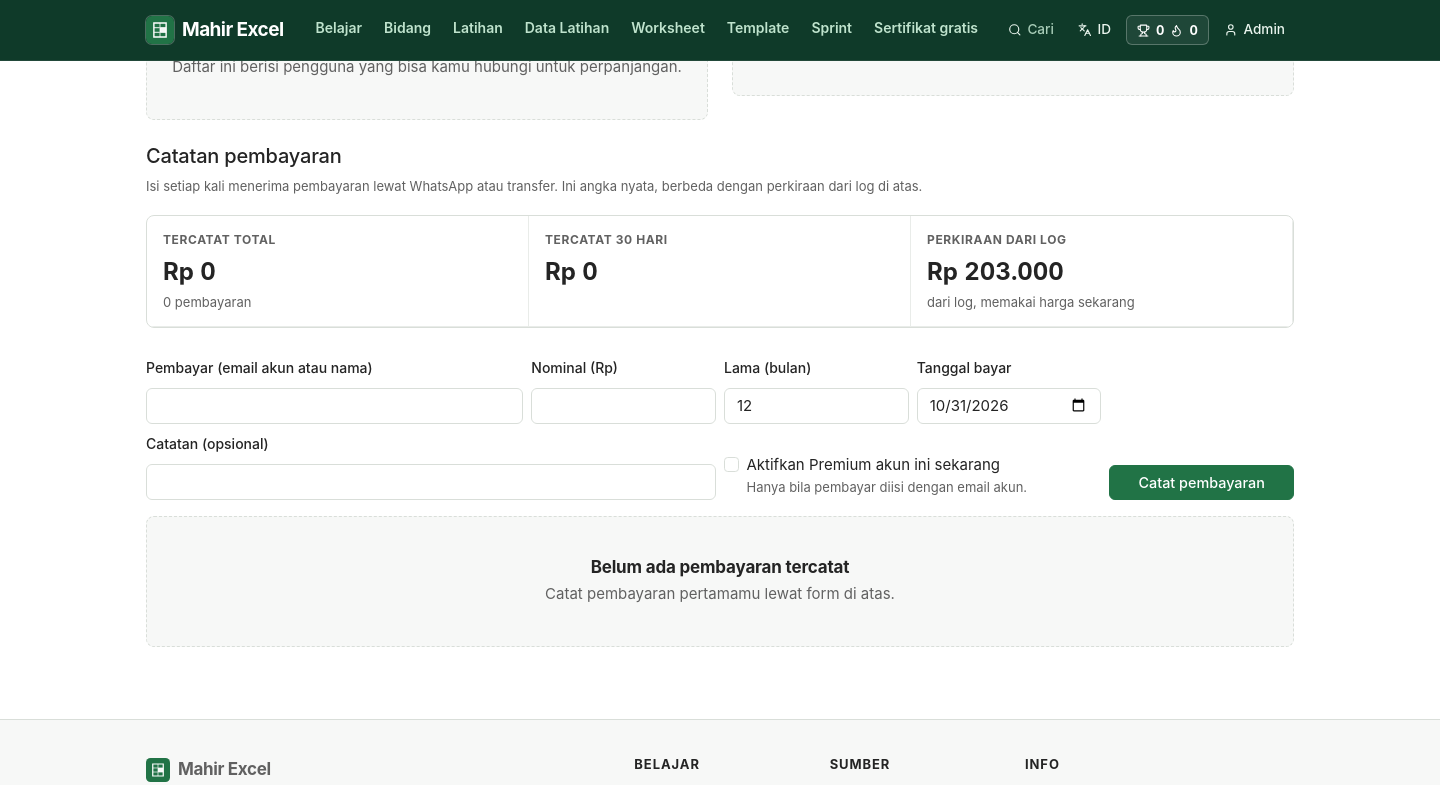
Scenario: catatan pembayaran manual di halaman Premium › mengirim pembayaran yang diisi, mengosongkan form, dan menampilkan hasilnya
(page scrolled)
Expected: the heading "Catatan pembayaran" is shown, top-left (146, 144), bottom-right (342, 168)
Type "ani@example.com" into the field labelled "Pembayar (email akun atau nama)" at x=335, y=406, box top-left (146, 388), bottom-right (523, 424)
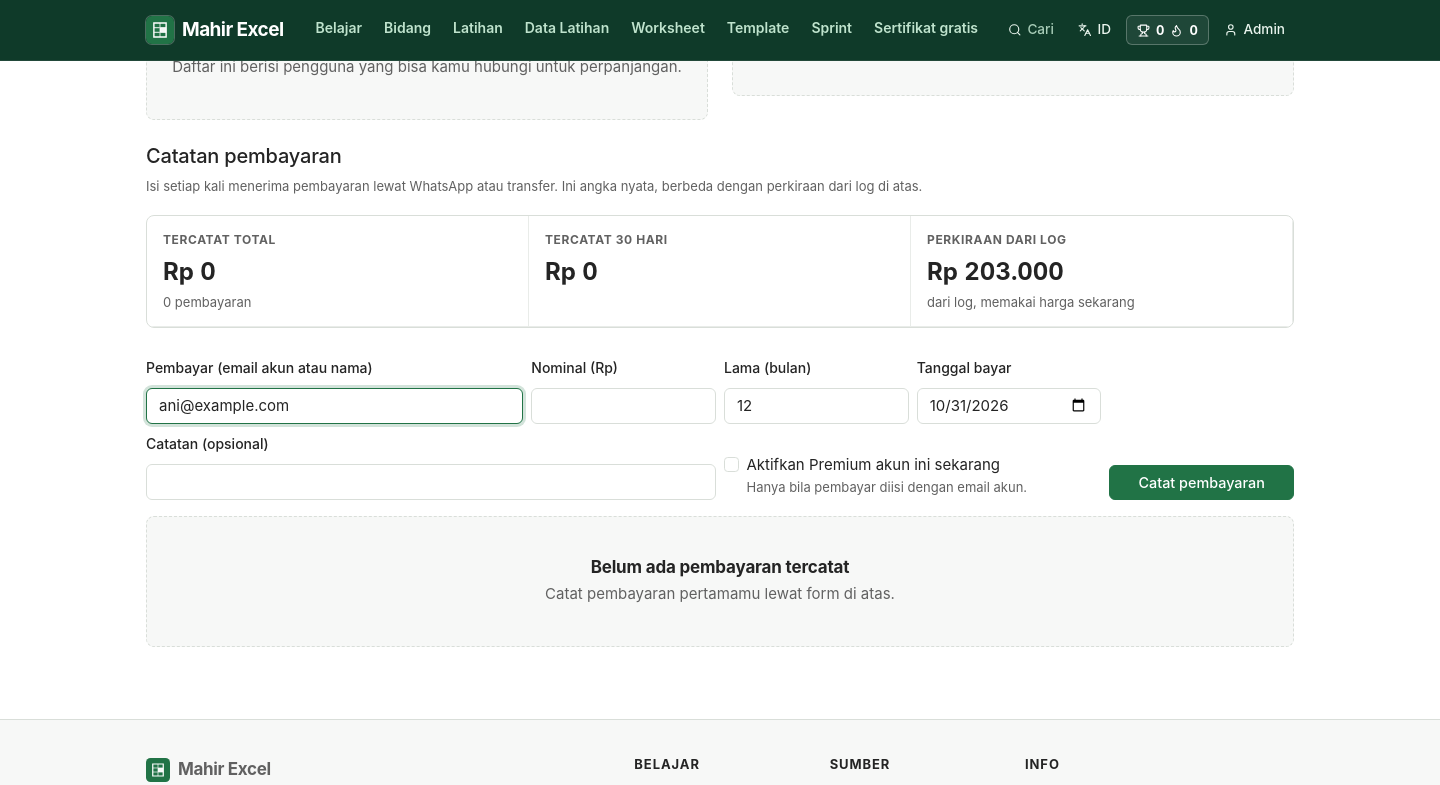
Type "49000" into the number field labelled "Nominal (Rp)" at x=624, y=406, box top-left (531, 388), bottom-right (716, 424)
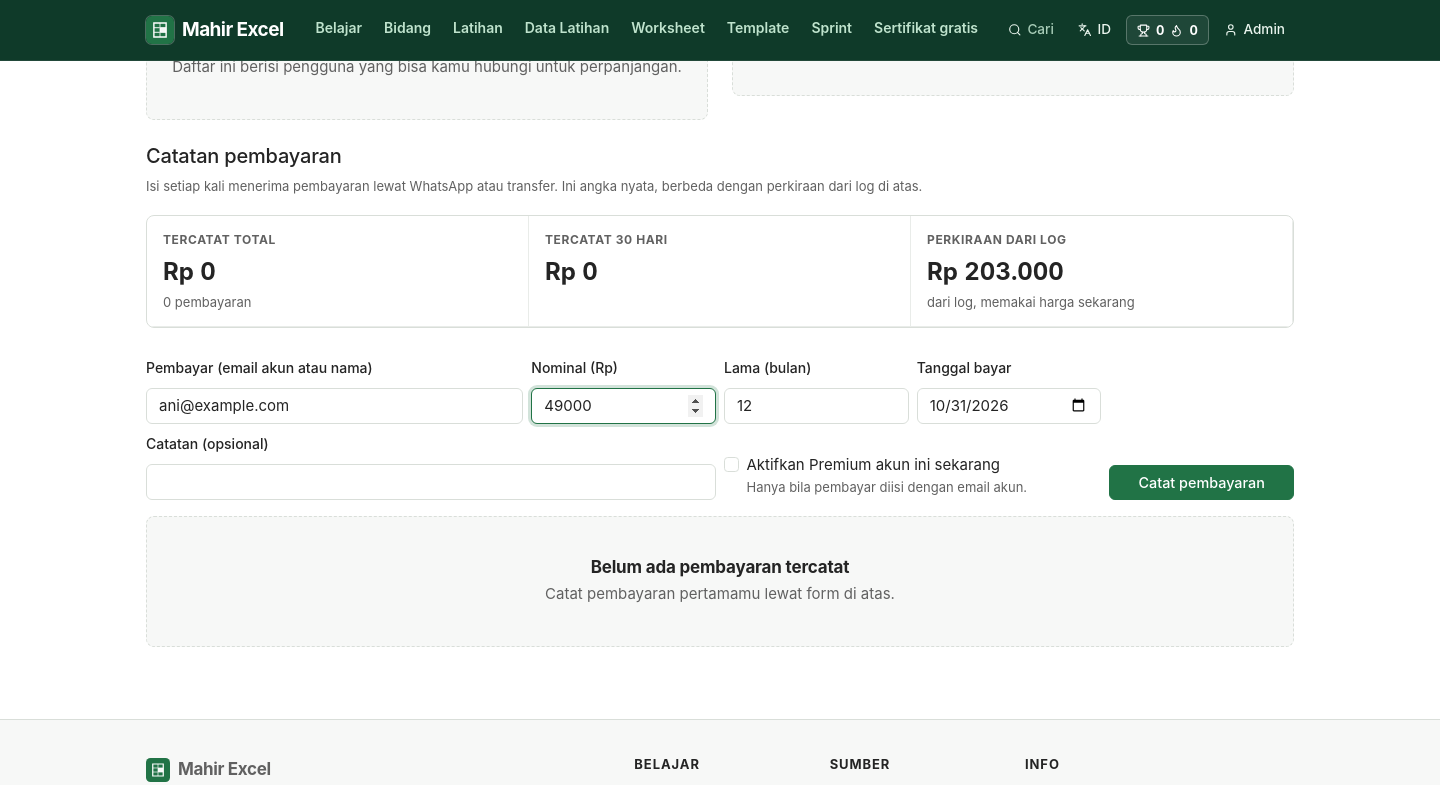
Type "transfer BCA" into the field labelled "Catatan (opsional)" at x=431, y=482, box top-left (146, 464), bottom-right (716, 500)
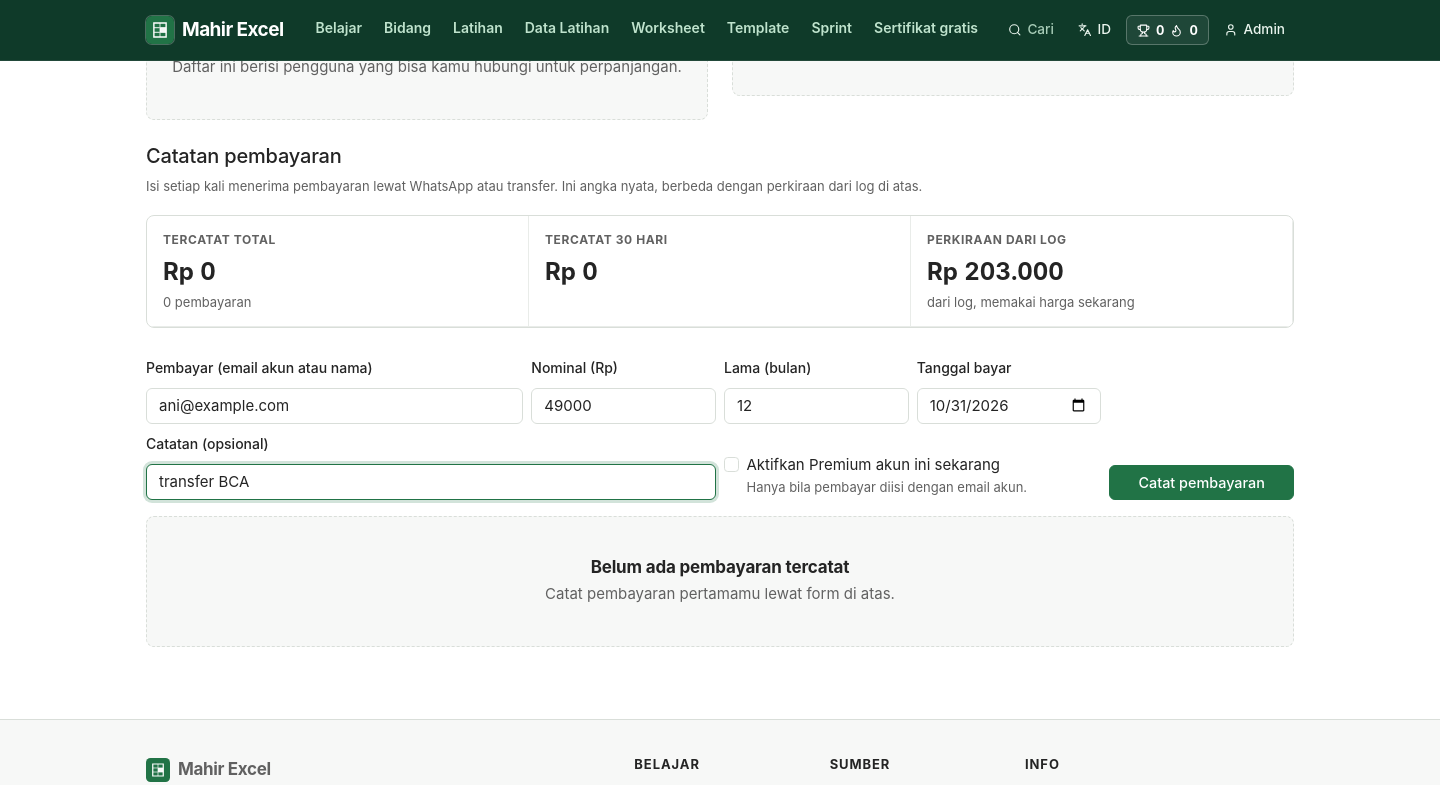
Click the checkbox labelled "Aktifkan Premium akun ini sekarang" at x=732, y=465, box top-left (724, 457), bottom-right (739, 472)
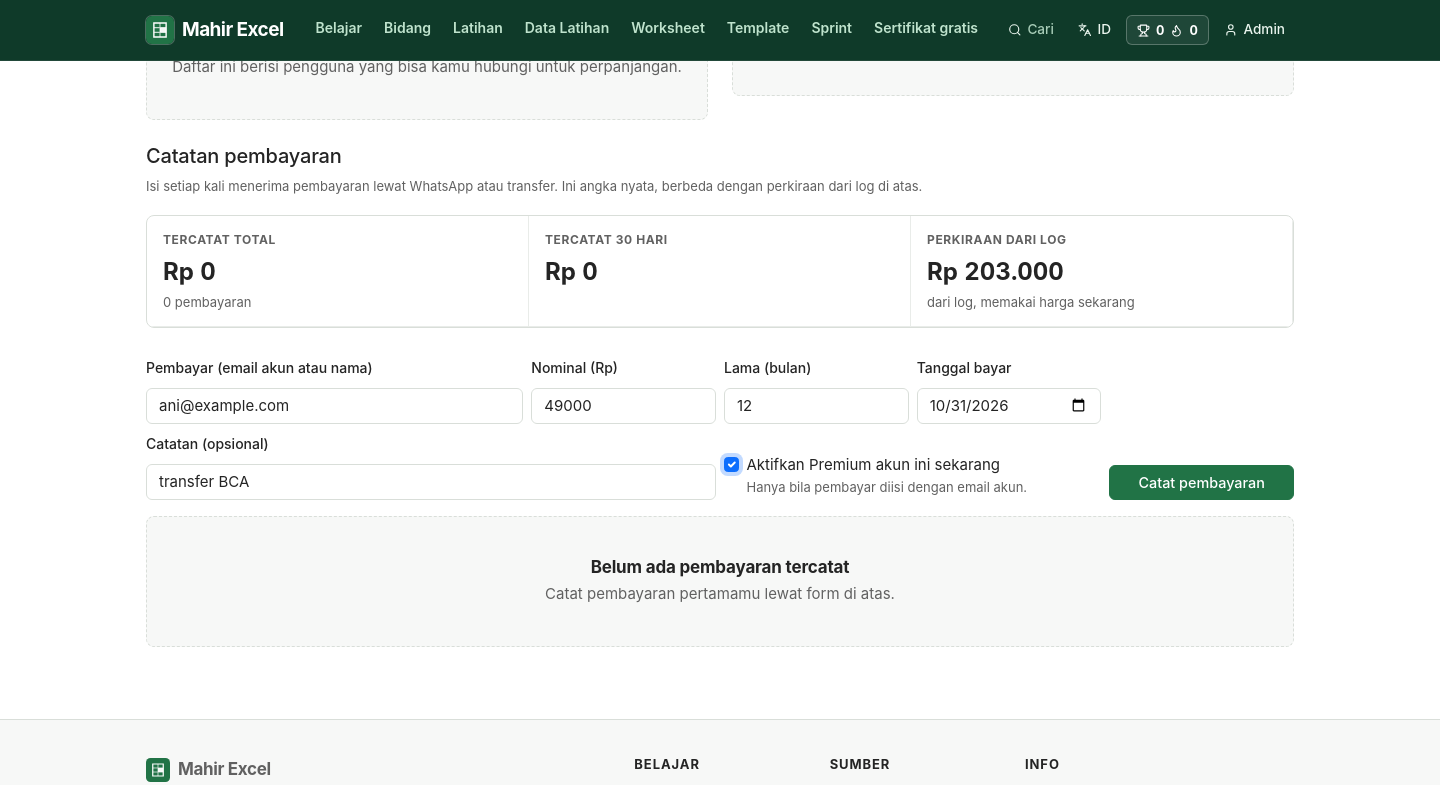
Click the button "Catat pembayaran" at x=1202, y=482, box top-left (1109, 464), bottom-right (1294, 500)
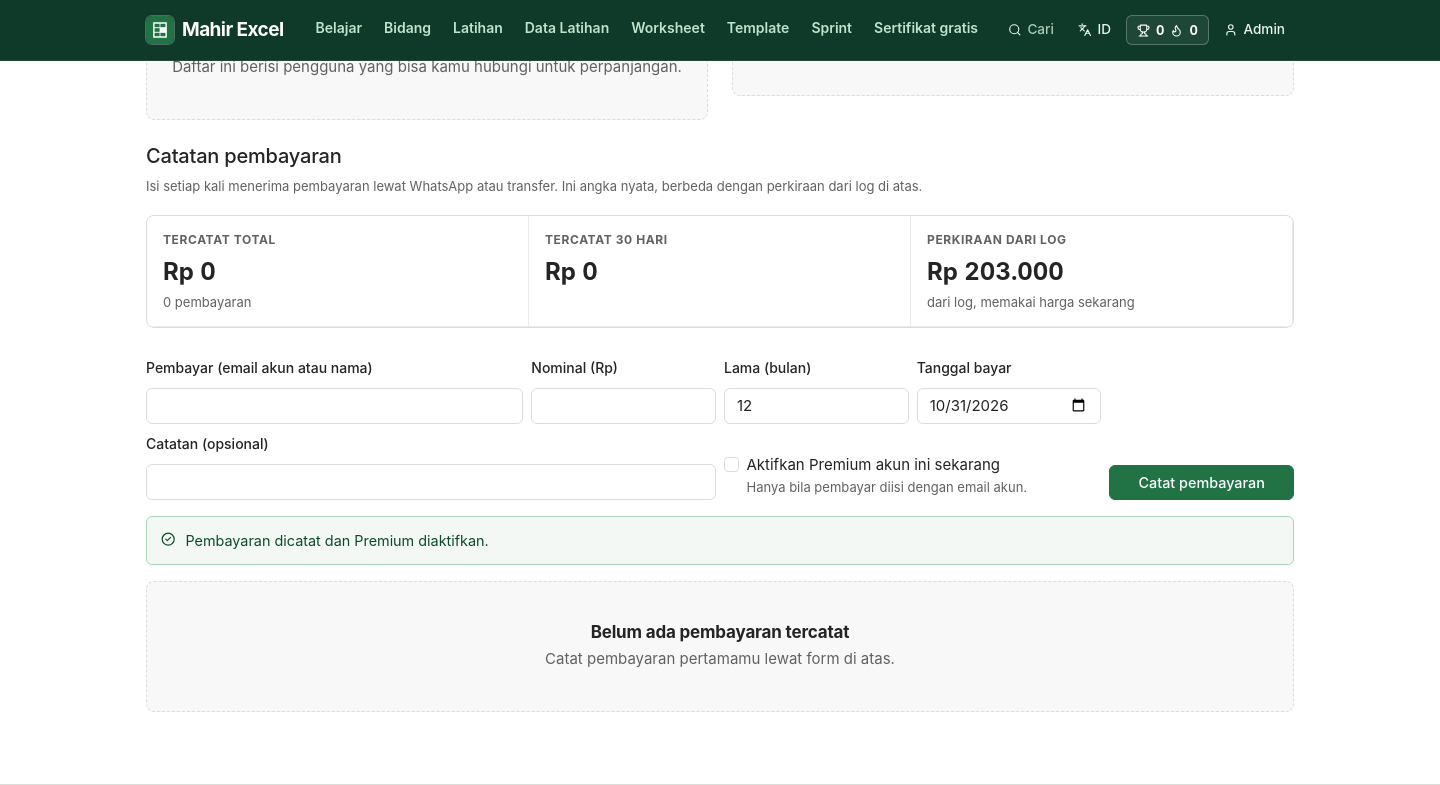
Expected: the checkbox labelled "Aktifkan Premium akun ini sekarang" is not checked, top-left (724, 457), bottom-right (739, 472)
Expected: the text "Pembayaran dicatat dan Premium diaktifkan." is shown, top-left (185, 532), bottom-right (489, 549)
Expected: the field labelled "Pembayar (email akun atau nama)" is empty, top-left (146, 388), bottom-right (523, 424)
